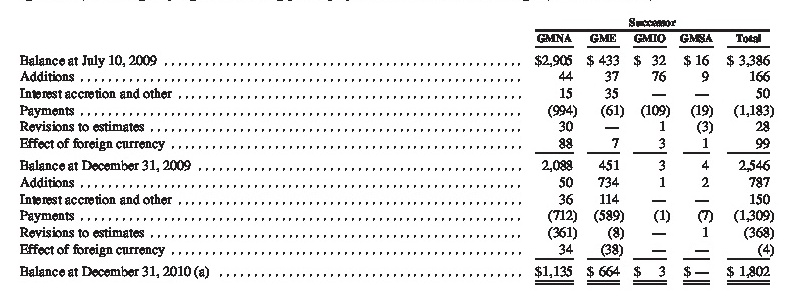table: (0, 0, 788, 302)
